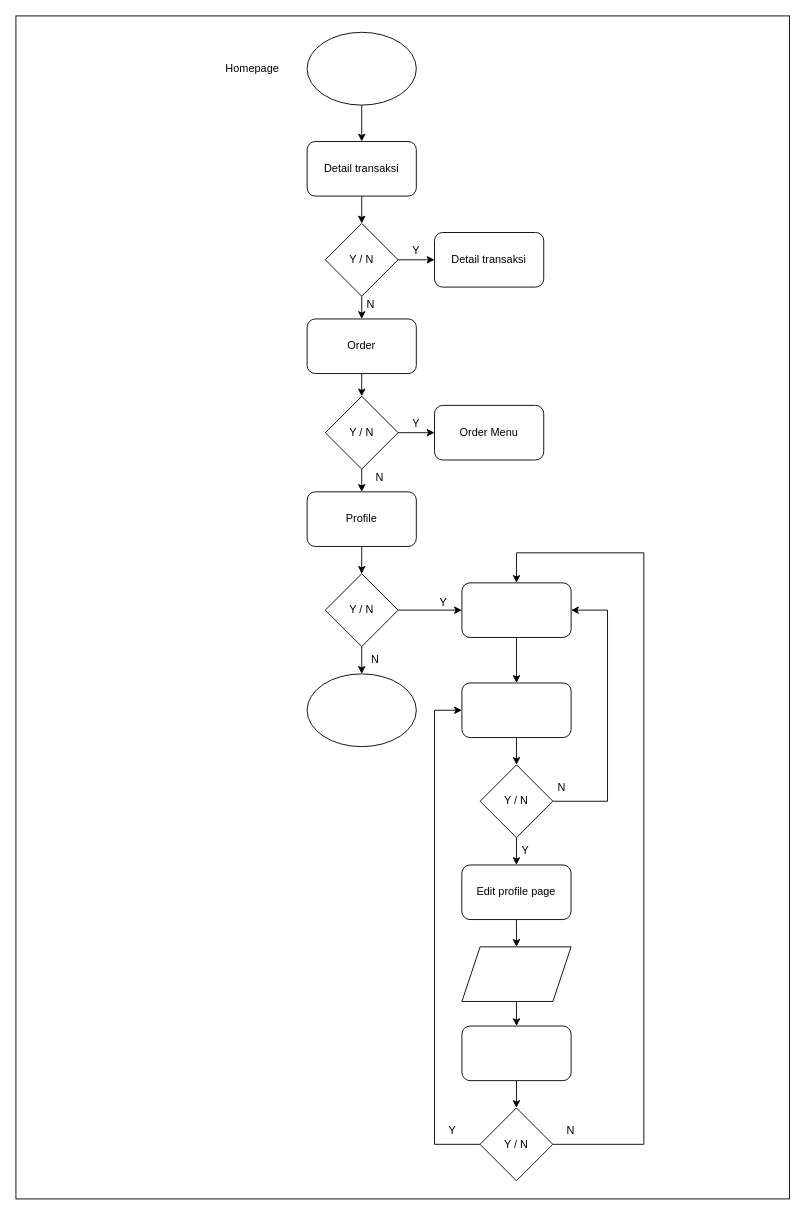
This 805x1215 diagram has some shape labels left out. Here are the shapes that lost their labels. From the top down, the box of each, then its label:
(306, 31, 416, 105): START
(461, 582, 571, 637): Profile Page
(306, 673, 416, 747): END
(461, 682, 571, 738): Edit profile
(461, 946, 571, 1001): Masukan data
(461, 1025, 571, 1081): Simpan perubahan
